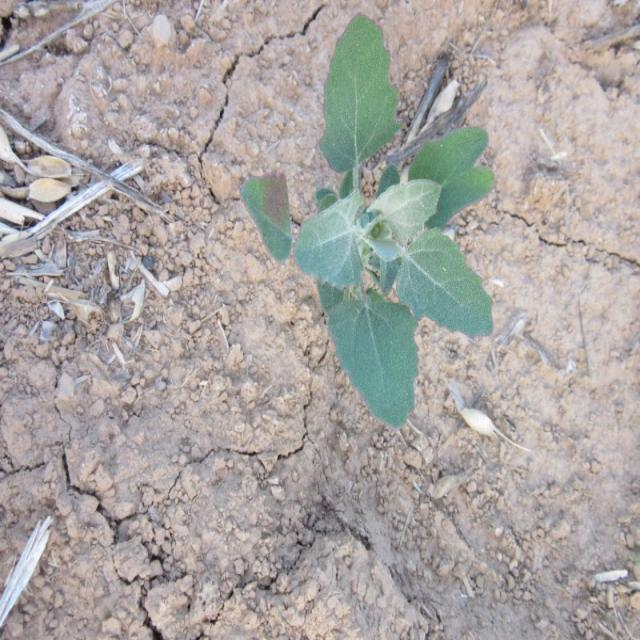ca: (240, 15, 496, 427)
